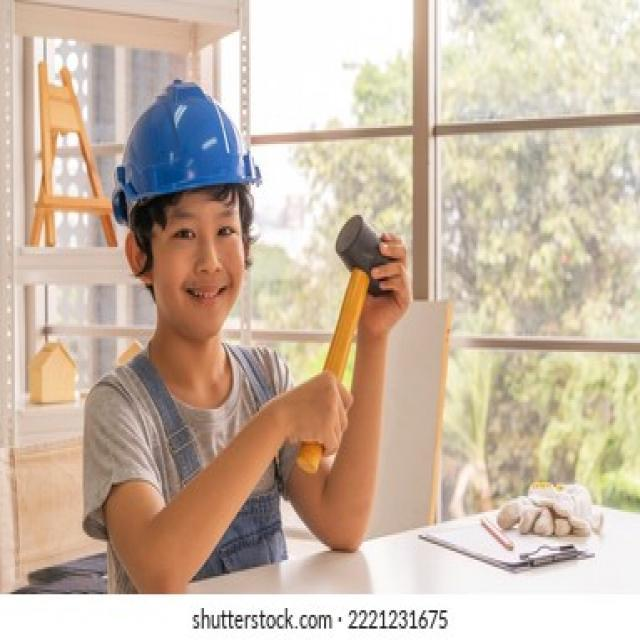hammer: (288, 204, 410, 479)
